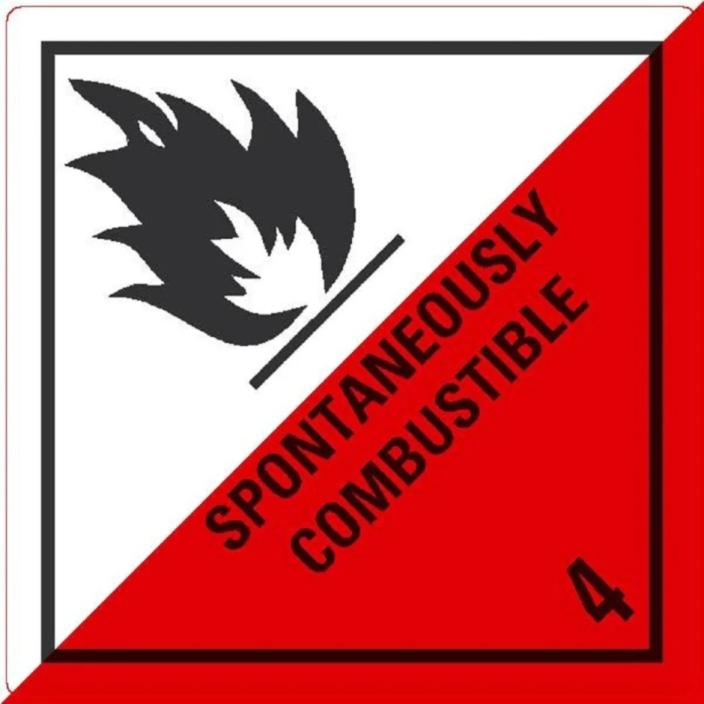charging station: (0, 1, 704, 703)
